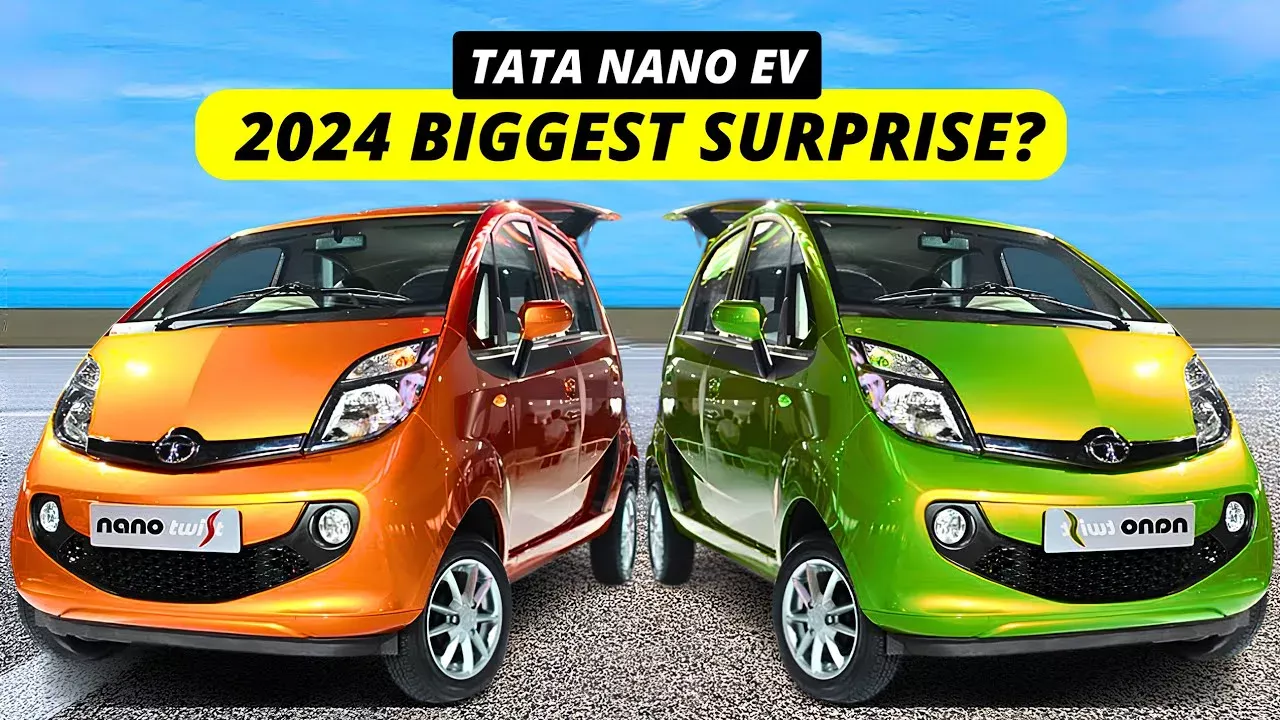Nano: (646, 199, 1275, 705), (12, 199, 638, 699)
